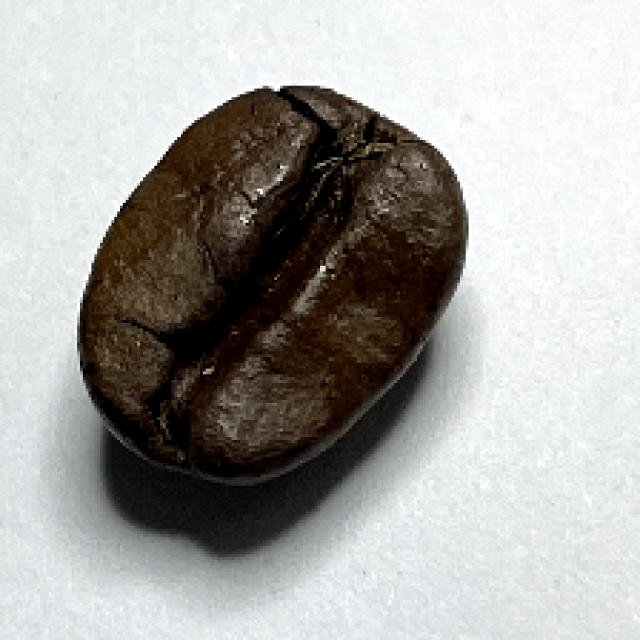bean: (77, 84, 470, 480)
